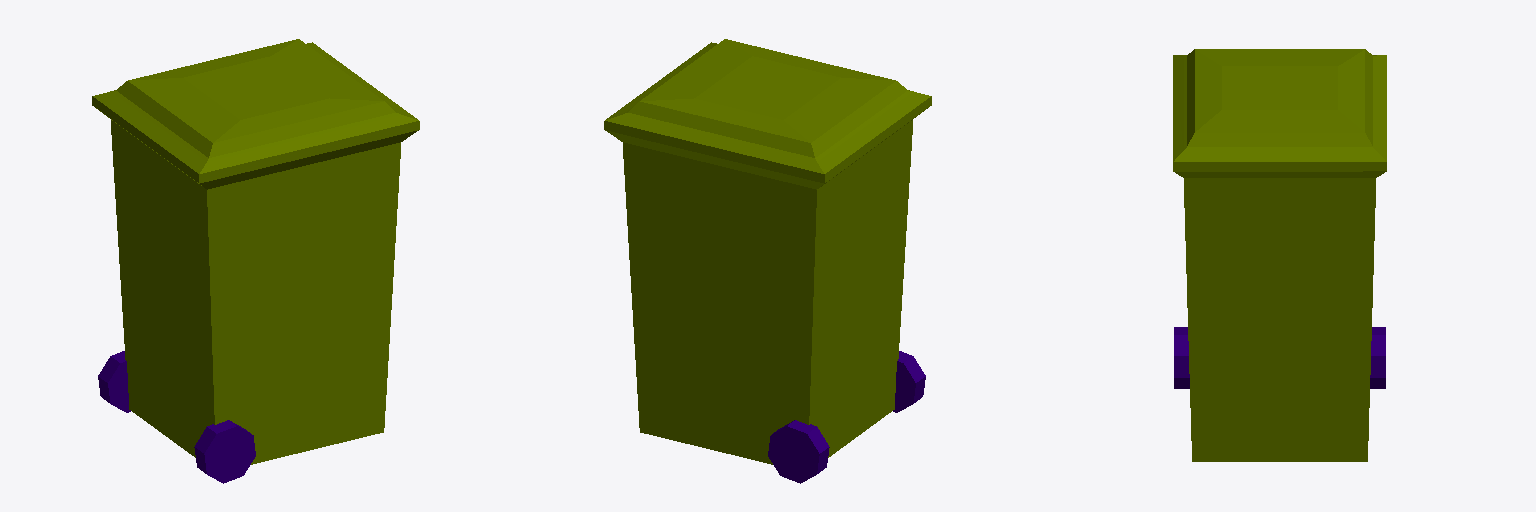
The model's file is Muelltonne_Kurz.obj.
3 renders of one model, left to right at view 1: azimuth 30°, elevation 25°; view 2: azimuth 150°, elevation 25°; view 3: azimuth 270°, elevation 25°, orthographic.
Visible parts, largest first — view 1: Muelltonne_Kurz1; view 2: Muelltonne_Kurz1; view 3: Muelltonne_Kurz1.
Part boxes in pixels (left/top/right/bottom): Muelltonne_Kurz1: left=92, top=39, right=419, bottom=483; Muelltonne_Kurz1: left=604, top=39, right=931, bottom=483; Muelltonne_Kurz1: left=1173, top=49, right=1386, bottom=461.
Size of the model in its own units: 70.76 by 103 by 59.47.